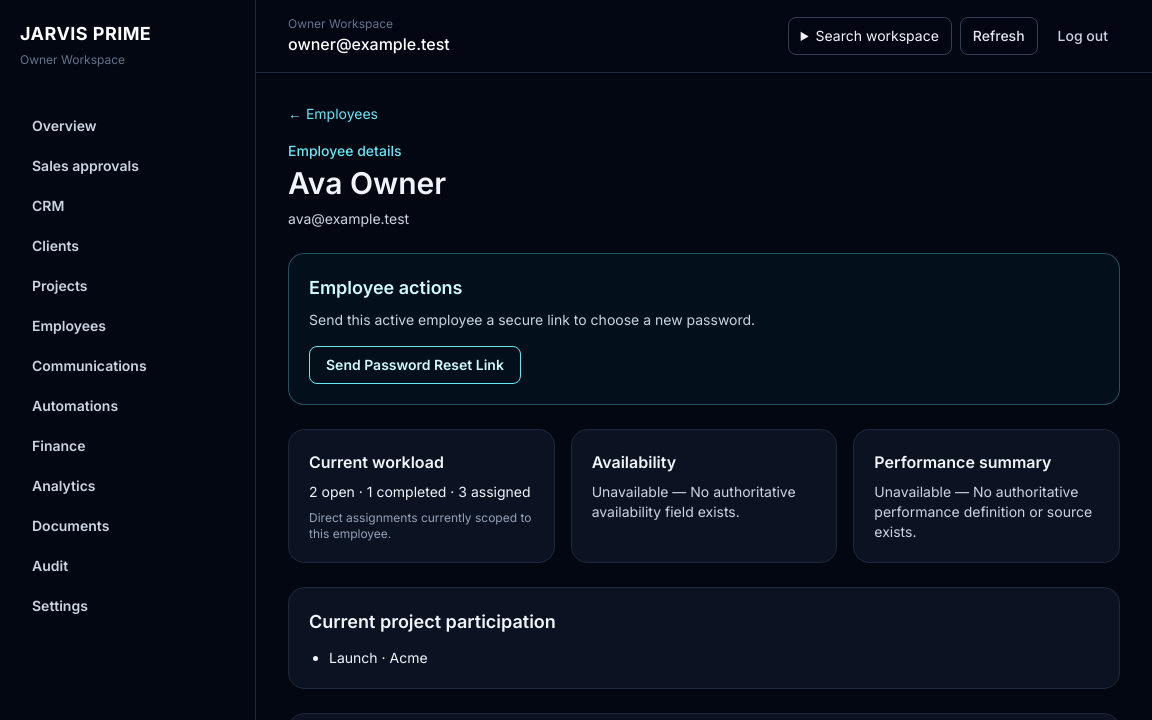
Test: Owner Workspace employees › posts only the scoped Employee ID and renders the reset-success status without exposing a capability
Click the button "Send Password Reset Link".
click(415, 365)  # box [309,346,521,384]
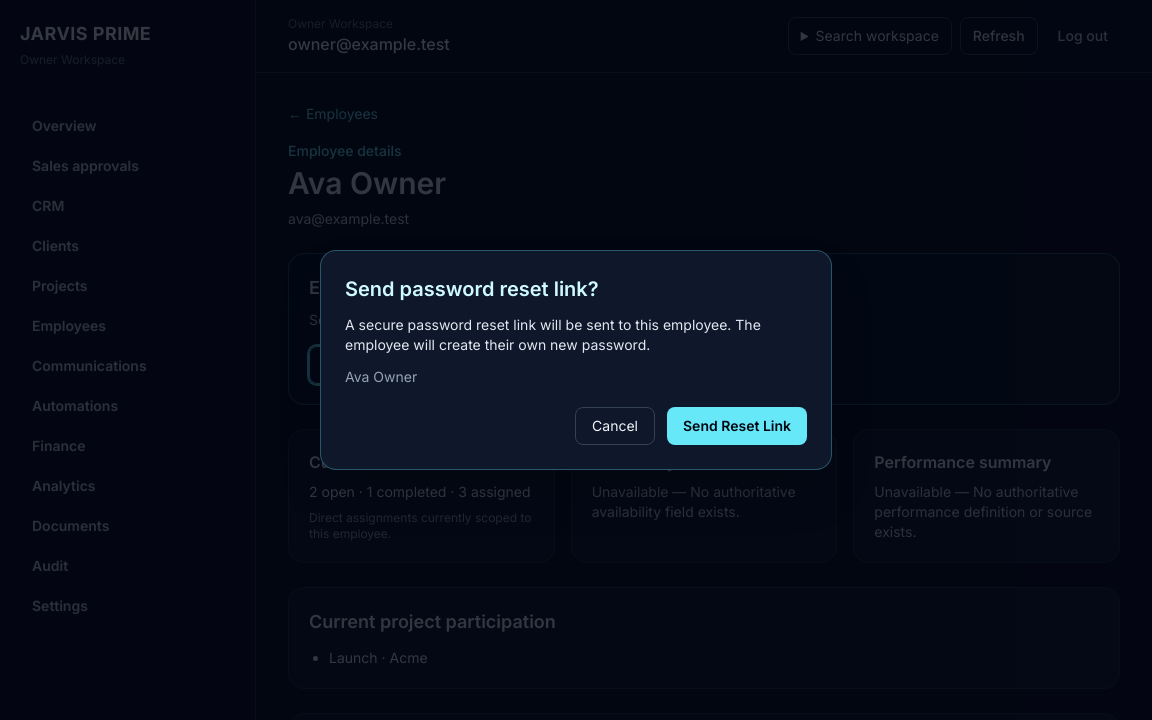
Click the button "Send Reset Link".
click(737, 426)  # box [667,407,807,445]
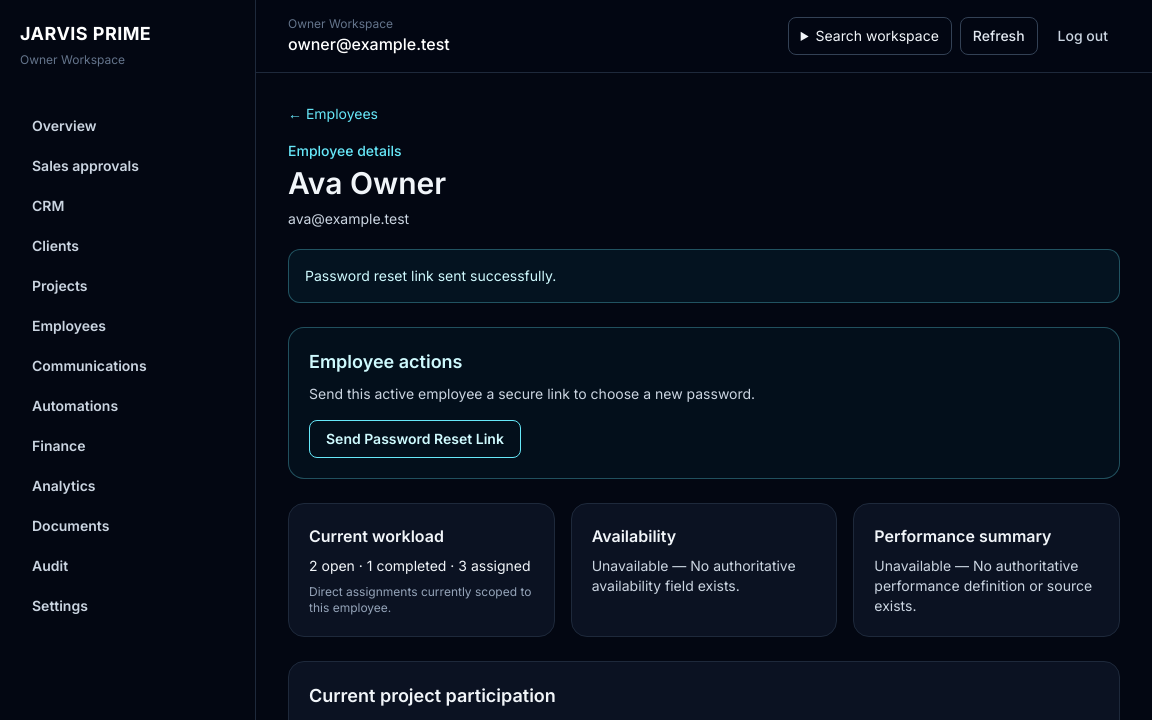
Expected: the message reads "Password reset link sent successfully.", [305,267,556,284]
